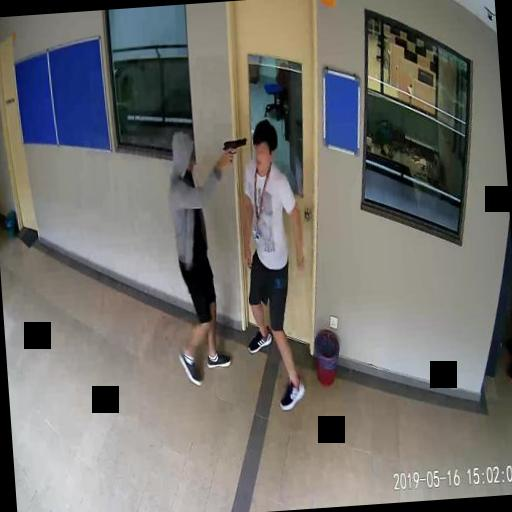Handgun: (222, 138, 246, 168)
